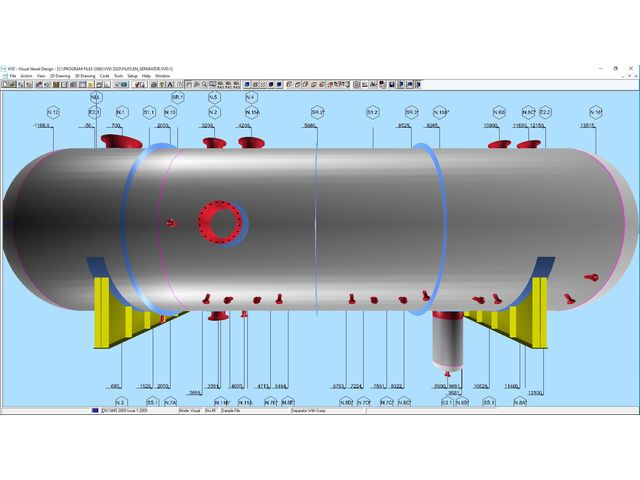nozzle: (96, 121, 143, 158), (193, 307, 240, 326), (196, 130, 232, 154), (482, 134, 516, 153), (246, 132, 268, 154)
